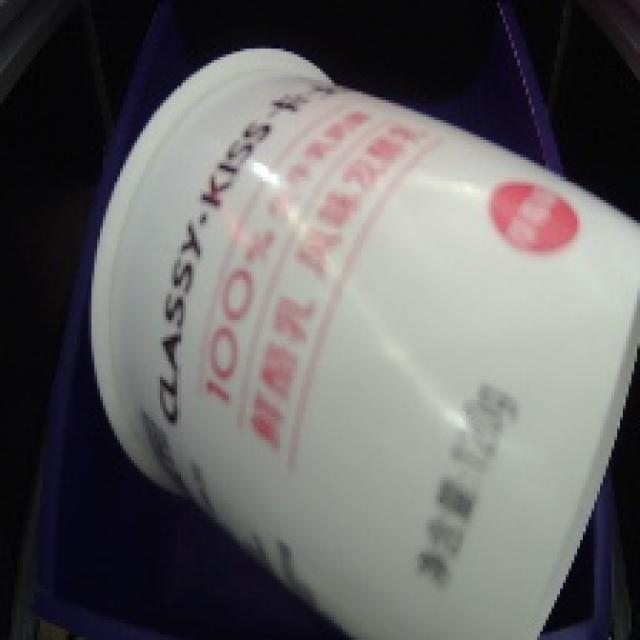cups: (74, 34, 640, 640)
